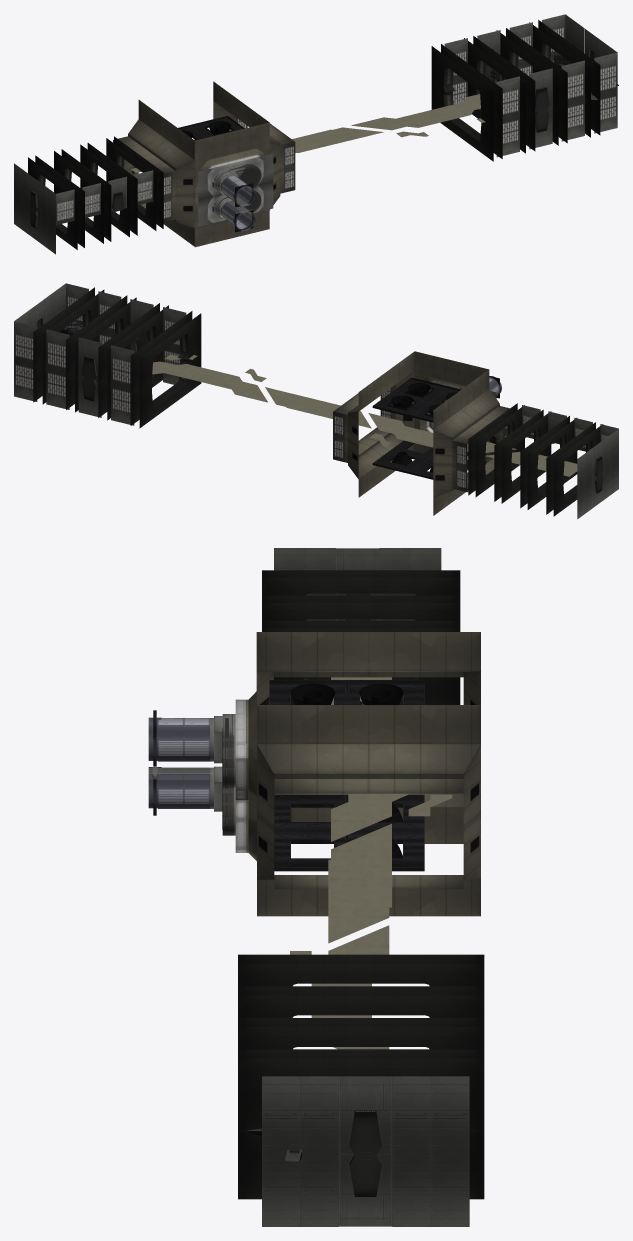
The model's file is env_sca_pentagoninterior_pre.glb.
3 renders of one model, top to bottom at view 1: azimuth 30°, elevation 25°; view 2: azimuth 150°, elevation 25°; view 3: azimuth 270°, elevation 25°, orthographic. The views are drawn at different scales.
Visible parts, largest first — view 1: pent_wall_02_mesh, pent_wall_01_mesh, pent_floor_01_mesh (1), pent_wall_03_mesh (10), pent_wall_02_mesh (1), pent_door_02_mesh, pent_wall_03_mesh (9), pent_wall_03_mesh (11), pent_wall_03_mesh (12), pent_wall_03_mesh (8), pent_wall_02_mesh (3), pent_wall_01_mesh (1) (+30 smaller); view 2: pent_wall_02_mesh, pent_wall_02_mesh (2), pent_floor_01_mesh (1), pent_wall_03_mesh (10), pent_wall_02_mesh (1), pent_floor_01_mesh, pent_wall_03_mesh (9), pent_wall_03_mesh (8), pent_wall_03_mesh (11), pent_wall_03_mesh (12), pent_wall_02_mesh (3), pent_ceiling_01a_mesh (+26 smaller); view 3: pent_wall_02_mesh (1), pent_wall_02_mesh, pent_wall_03_mesh (8), pent_wall_02_mesh (2), pent_wall_03_mesh (10), pent_wall_03_mesh (12), pent_wall_03_mesh (11), pent_floor_01_mesh, pent_ceiling_01a_mesh (1), pent_wall_03_mesh (2), pent_wall_03_mesh (3), pent_wall_04a_mesh (6) (+24 smaller).
Boxes of the visible parts, left/top/right/bottom form: pent_wall_02_mesh: left=113, top=100, right=194, bottom=198; pent_wall_01_mesh: left=194, top=122, right=269, bottom=195; pent_floor_01_mesh (1): left=295, top=94, right=485, bottom=152; pent_wall_03_mesh (10): left=431, top=44, right=502, bottom=127; pent_wall_02_mesh (1): left=213, top=81, right=295, bottom=174; pent_door_02_mesh: left=198, top=153, right=273, bottom=199; pent_wall_03_mesh (9): left=431, top=82, right=502, bottom=161; pent_wall_03_mesh (11): left=496, top=28, right=567, bottom=111; pent_wall_03_mesh (12): left=464, top=36, right=535, bottom=119; pent_wall_03_mesh (8): left=529, top=20, right=600, bottom=103; pent_wall_02_mesh (3): left=123, top=161, right=194, bottom=246; pent_wall_01_mesh (1): left=194, top=182, right=269, bottom=247; pent_wall_02_mesh: left=433, top=369, right=509, bottom=468; pent_wall_02_mesh (2): left=333, top=404, right=414, bottom=497; pent_floor_01_mesh (1): left=152, top=354, right=340, bottom=418; pent_wall_03_mesh (10): left=130, top=311, right=201, bottom=393; pent_wall_02_mesh (1): left=333, top=351, right=414, bottom=446; pent_floor_01_mesh: left=286, top=396, right=577, bottom=476; pent_wall_03_mesh (9): left=130, top=350, right=201, bottom=428; pent_wall_03_mesh (8): left=33, top=287, right=104, bottom=370; pent_wall_03_mesh (11): left=66, top=295, right=136, bottom=378; pent_wall_03_mesh (12): left=98, top=303, right=168, bottom=386; pent_wall_02_mesh (3): left=433, top=431, right=507, bottom=515; pent_ceiling_01a_mesh: left=372, top=377, right=460, bottom=422; pent_wall_02_mesh (1): left=257, top=705, right=480, bottom=827; pent_wall_02_mesh: left=256, top=632, right=480, bottom=704; pent_wall_03_mesh (8): left=238, top=1049, right=484, bottom=1130; pent_wall_02_mesh (2): left=257, top=814, right=480, bottom=916; pent_wall_03_mesh (10): left=238, top=954, right=484, bottom=986; pent_wall_03_mesh (12): left=238, top=986, right=484, bottom=1017; pent_wall_03_mesh (11): left=238, top=1018, right=484, bottom=1049; pent_floor_01_mesh: left=331, top=677, right=452, bottom=907; pent_ceiling_01a_mesh (1): left=274, top=794, right=424, bottom=871; pent_wall_03_mesh (2): left=262, top=595, right=460, bottom=620; pent_wall_03_mesh (3): left=262, top=570, right=460, bottom=595; pent_wall_04a_mesh (6): left=339, top=1076, right=392, bottom=1156.
Size of the model in its own units: 107 by 19.2 by 27.51.
Materials: 17 (17 with a texture image).
